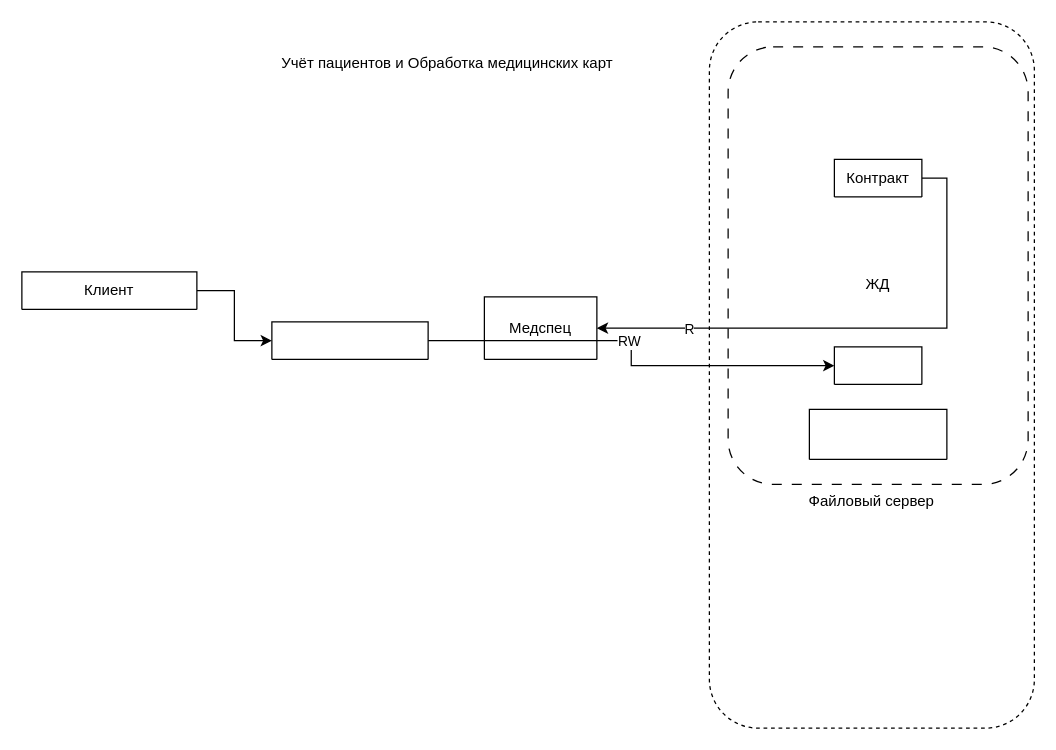
This 1056x750 diagram has some shape labels left out. Each missing label, with the centre of its shape:
"Медданные" goes at point 349,340.
"Медкатра" goes at point 877,365.
"Реестр анализов за день" goes at point 877,433.
